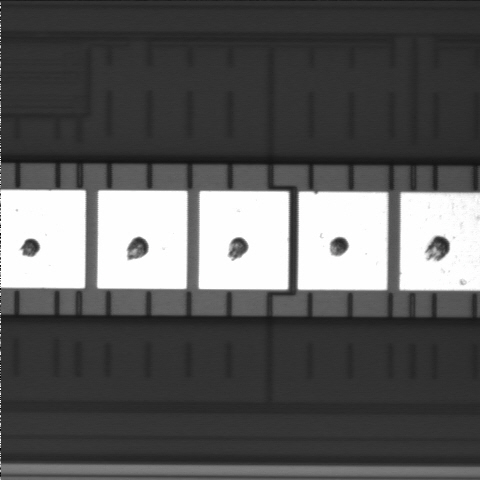pad: (97, 190, 187, 289), (199, 191, 289, 289), (298, 192, 388, 290)
